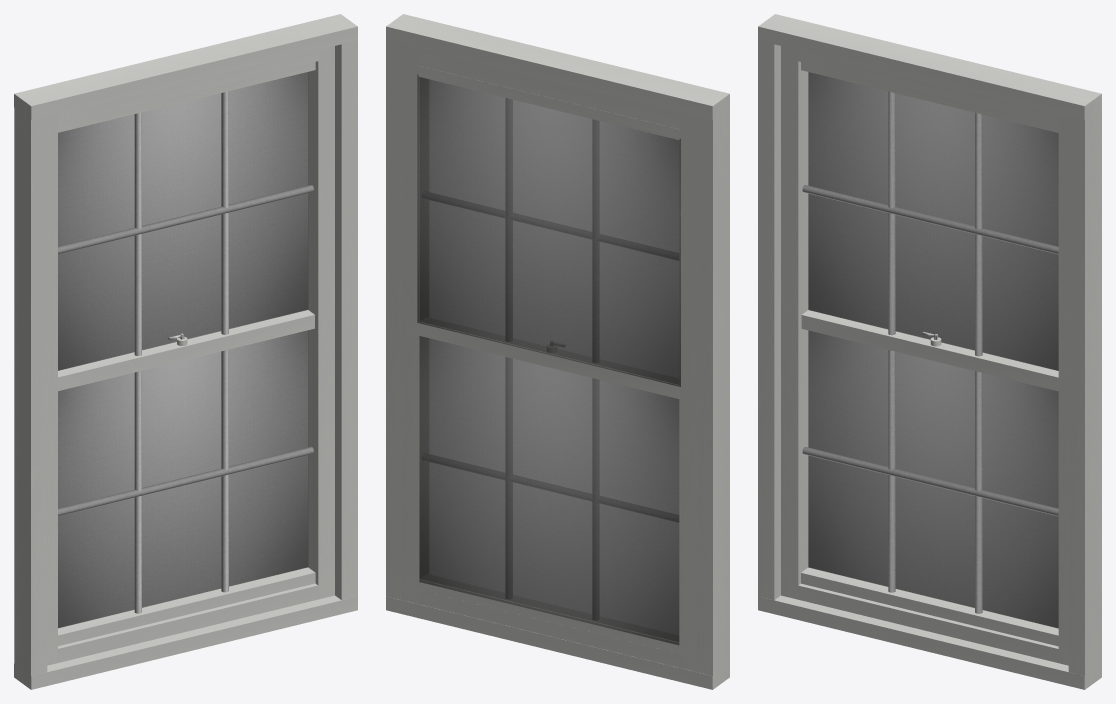
The model's file is Window.FBX.
The picture shows the model from 3 angles, left to right: view 1: azimuth 30°, elevation 25°; view 2: azimuth 150°, elevation 25°; view 3: azimuth 330°, elevation 25°; orthographic projection.
Visible parts, largest first — view 1: Box018, Box015, Box001, Box007, Box002, Box003, Box004, Box006, Box012, Box011, Box009, Cylinder002 (+5 smaller); view 2: Box018, Box015, Box001, Box007, Box003, Box006, Box002, Box012, Box008, Box004, Box011, Box009 (+5 smaller); view 3: Box018, Box015, Box002, Box006, Box001, Box003, Box004, Box007, Box012, Box011, Box009, Cylinder001 (+5 smaller).
Boxes of the visible parts, bbox=[...] form: Box018: bbox=[58, 72, 308, 370]; Box015: bbox=[58, 330, 308, 628]; Box001: bbox=[14, 95, 47, 689]; Box007: bbox=[308, 46, 334, 599]; Box002: bbox=[335, 40, 357, 600]; Box003: bbox=[14, 14, 357, 119]; Box004: bbox=[14, 595, 357, 689]; Box006: bbox=[47, 113, 57, 665]; Box012: bbox=[58, 310, 314, 391]; Box011: bbox=[58, 567, 315, 646]; Box009: bbox=[57, 583, 318, 662]; Cylinder002: bbox=[221, 91, 228, 592]; Box018: bbox=[417, 74, 680, 386]; Box015: bbox=[419, 336, 679, 645]; Box001: bbox=[696, 95, 729, 689]; Box007: bbox=[401, 44, 428, 604]; Box003: bbox=[386, 14, 729, 119]; Box006: bbox=[679, 112, 697, 671]; Box002: bbox=[386, 40, 402, 599]; Box012: bbox=[417, 317, 681, 399]; Box008: bbox=[418, 48, 679, 129]; Box004: bbox=[386, 596, 712, 689]; Box011: bbox=[419, 574, 679, 653]; Box009: bbox=[419, 590, 679, 667]; Box018: bbox=[808, 72, 1058, 370]; Box015: bbox=[808, 330, 1058, 628]; Box002: bbox=[1068, 95, 1101, 689]; Box006: bbox=[781, 46, 808, 599]; Box001: bbox=[758, 40, 780, 600]; Box003: bbox=[758, 14, 1101, 119]; Box004: bbox=[758, 595, 1084, 689]; Box007: bbox=[1058, 114, 1068, 665]; Box012: bbox=[801, 310, 1058, 391]; Box011: bbox=[801, 567, 1058, 646]; Box009: bbox=[797, 583, 1058, 663]; Cylinder001: bbox=[888, 91, 895, 592].
Size of the model in its own units: 17.49 by 29.85 by 1.59.
3 materials, 3 textured.
